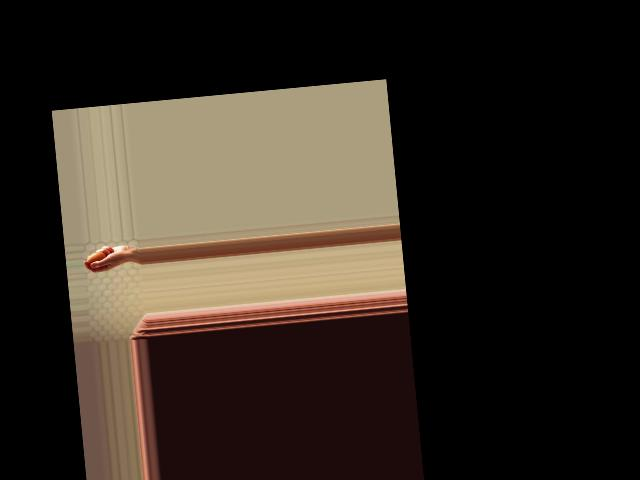egg: (86, 250, 107, 267)
